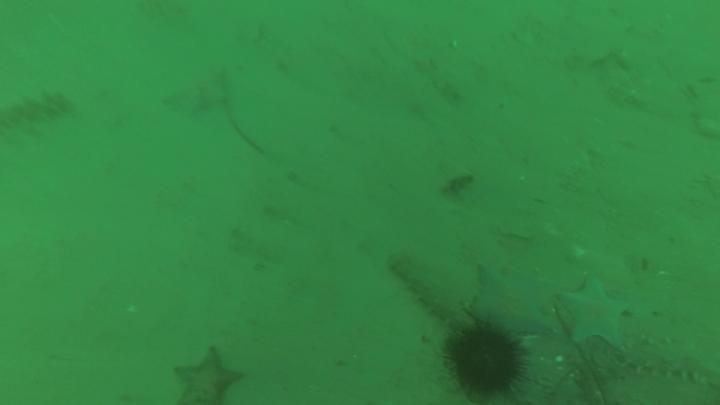echinus: (450, 324, 524, 398)
holothurian: (391, 253, 472, 338), (625, 338, 718, 386), (4, 90, 71, 131)
starfish: (469, 268, 555, 341), (558, 275, 634, 352), (173, 345, 241, 403)
